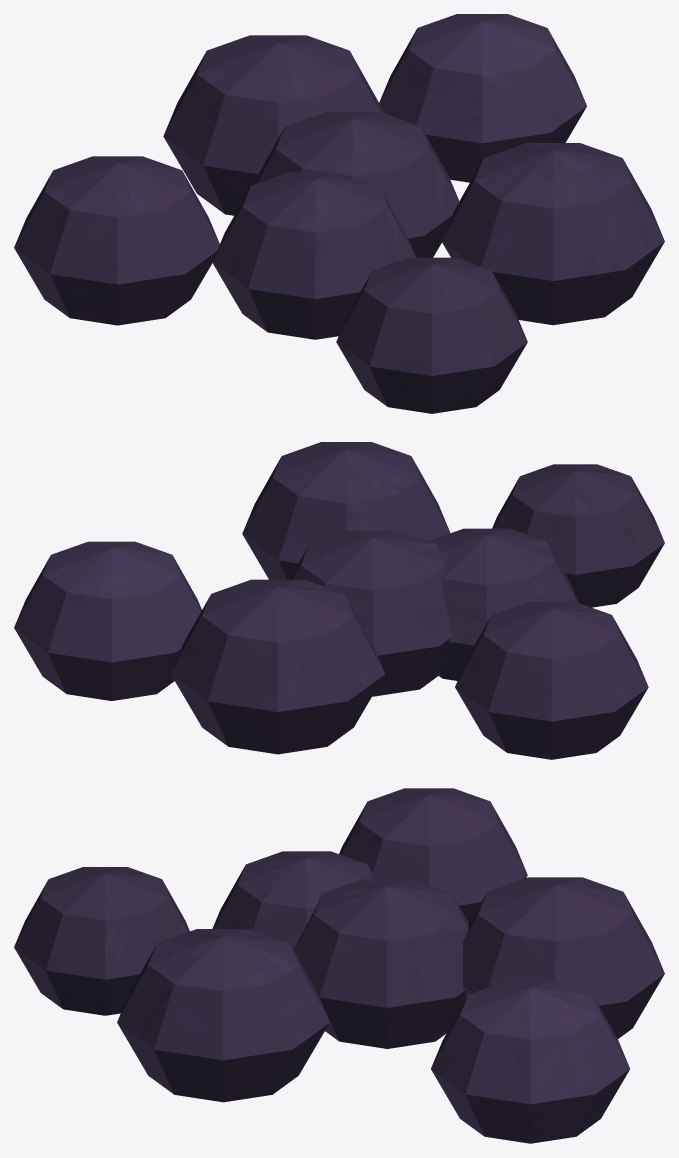
Rendered from elderberries.glb.
3 renders of one model, top to bottom at view 1: azimuth 30°, elevation 25°; view 2: azimuth 150°, elevation 25°; view 3: azimuth 270°, elevation 25°, orthographic. The views are drawn at different scales.
Visible parts, largest first — view 1: block_individual berry (×7); view 2: block_individual berry (×7); view 3: block_individual berry (×7).
Boxes of the visible parts, x1,y1,x2,y2 form: block_individual berry (×7): (14, 14, 664, 413); block_individual berry (×7): (14, 442, 664, 759); block_individual berry (×7): (14, 788, 664, 1143).
Bounding box in the file's own units: 0.1084 × 0.0294 × 0.1076.
1 material, 1 textured.
